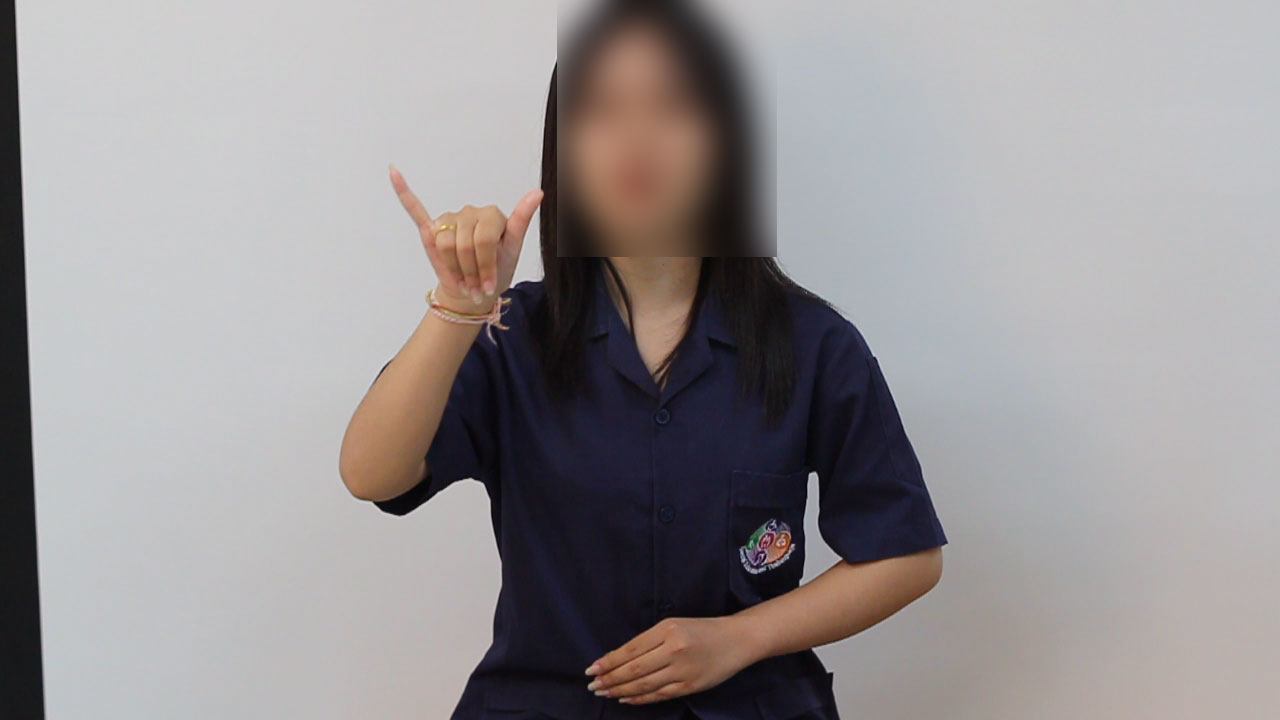yor: (376, 159, 546, 310)
